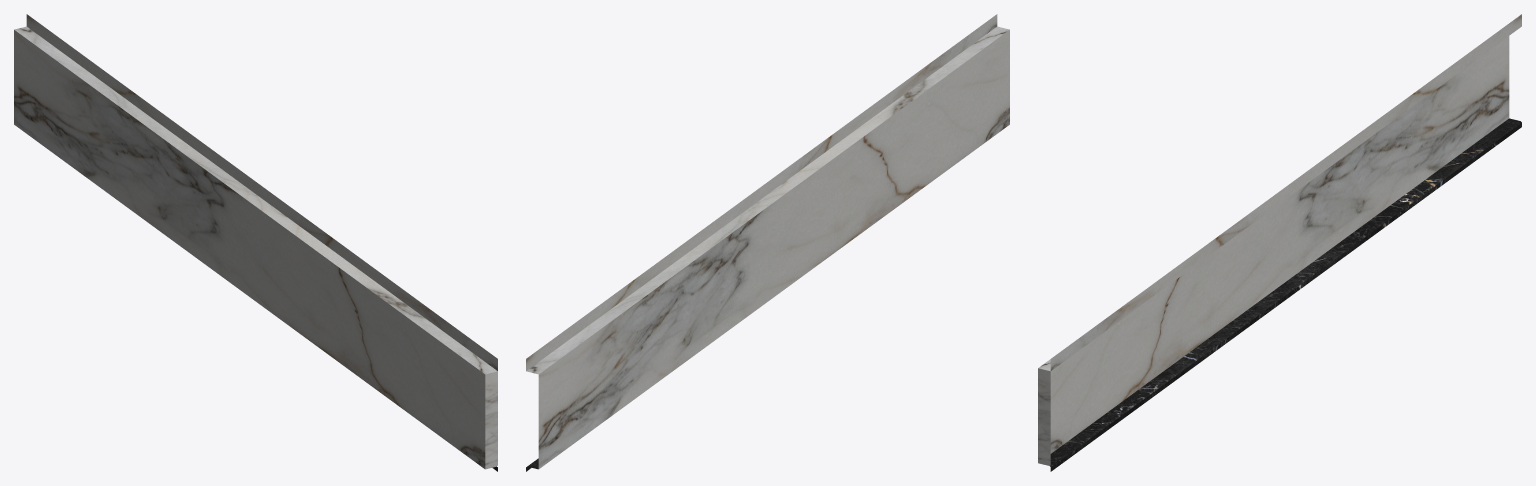
The model's file is test_hallway (2).fbx.
3 views of the same model, side by side, from view 1: azimuth 30°, elevation 25°; view 2: azimuth 150°, elevation 25°; view 3: azimuth 330°, elevation 25° (orthographic).
Visible parts, largest first — view 1: Wall; view 2: Wall; view 3: Wall.
Part boxes in pixels (left/top/right/bottom): Wall: left=14, top=14, right=497, bottom=471; Wall: left=526, top=14, right=1009, bottom=471; Wall: left=1038, top=14, right=1521, bottom=471.
Size of the model in its own units: 75.29 by 638 by 4820.
